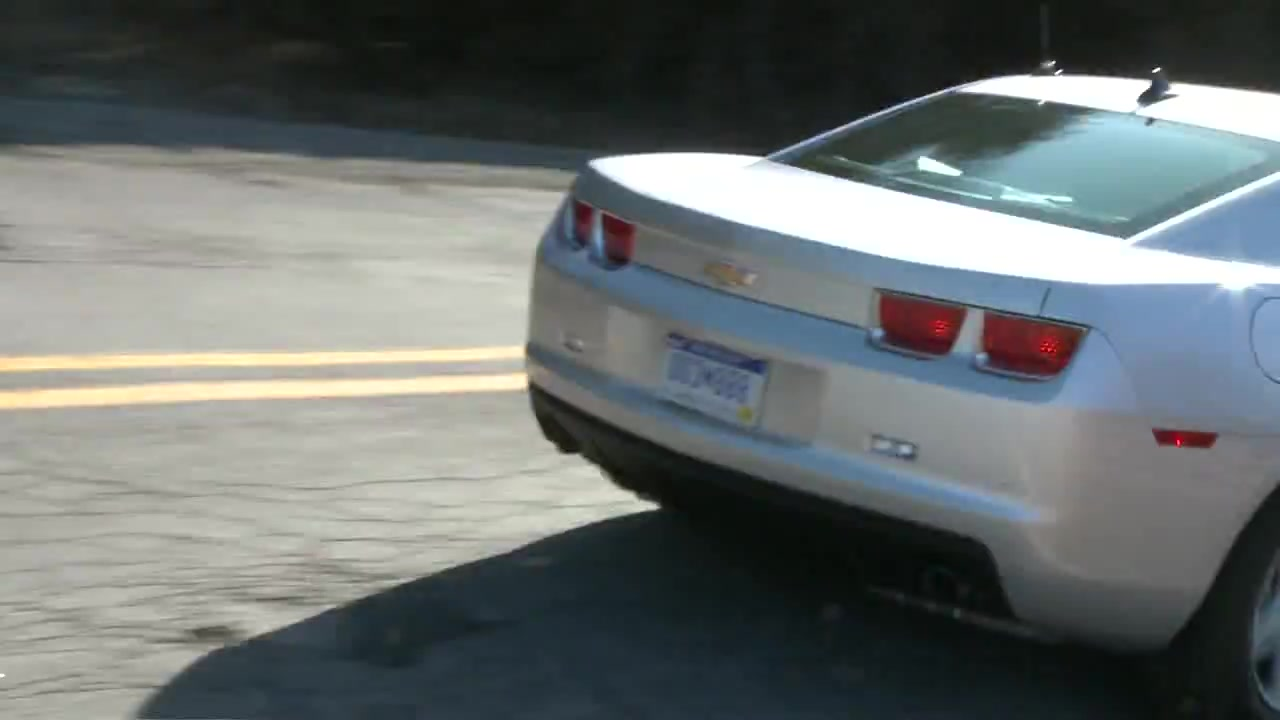car: (526, 57, 1280, 720)
